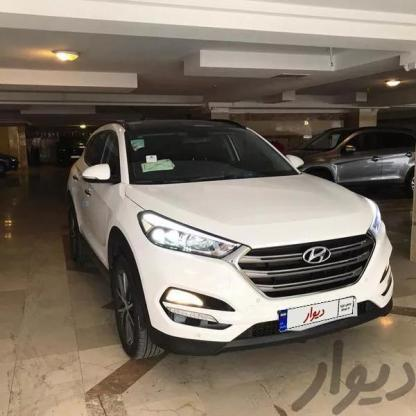Car: (38, 116, 404, 346), (277, 116, 416, 216)
